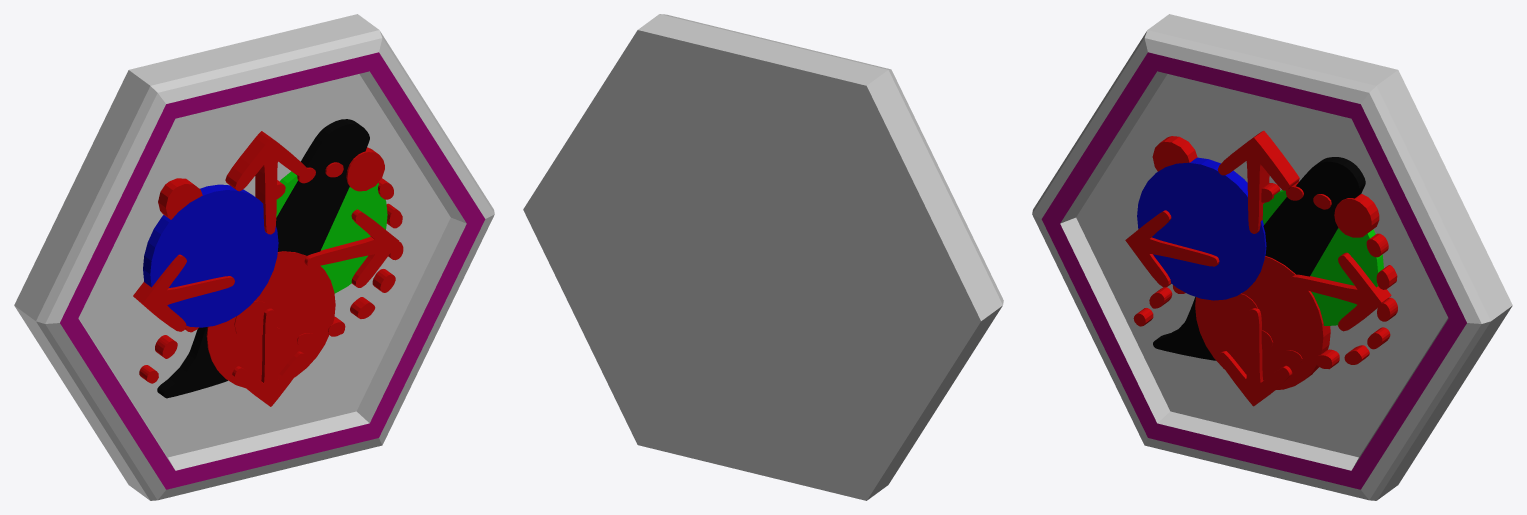
File: kColor.dae
3 views of the same model, side by side, from view 1: azimuth 30°, elevation 25°; view 2: azimuth 150°, elevation 25°; view 3: azimuth 330°, elevation 25° (orthographic).
Parts seen in each view (by area): view 1: node, kColor, Planar, Hamiltonian; view 2: node; view 3: node, kColor, Planar, Hamiltonian.
Part boxes in pixels (x1,y1,x2,y2): node: (14,14,494,500); kColor: (143,171,387,388); Planar: (133,131,398,406); Hamiltonian: (139,147,403,383); node: (523,14,1003,500); node: (1032,14,1512,500); kColor: (1137,157,1383,390); Planar: (1125,130,1391,406); Hamiltonian: (1133,136,1397,369).
Size of the model in its own units: 2 by 0.2228 by 1.73.
